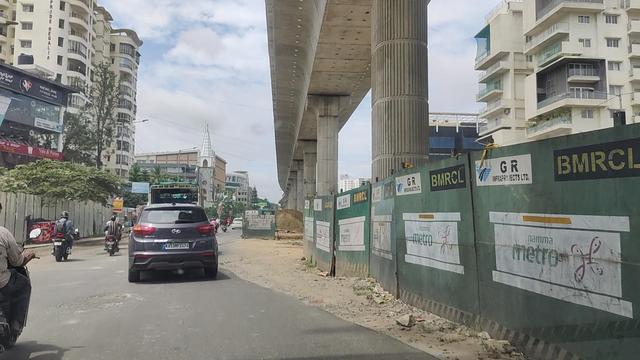LMV: (130, 204, 216, 284), (53, 212, 80, 264)
RoadDamages: (60, 290, 130, 329), (280, 290, 343, 332), (230, 264, 269, 302)
